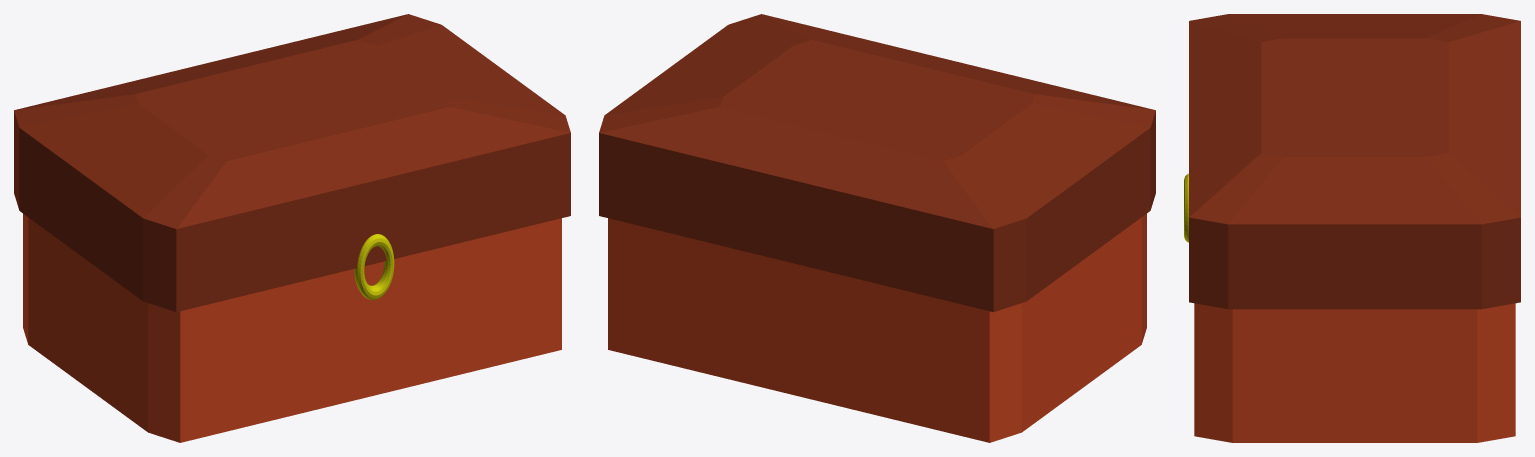
The model's file is treasure.fbx.
3 renders of one model, left to right at view 1: azimuth 30°, elevation 25°; view 2: azimuth 150°, elevation 25°; view 3: azimuth 270°, elevation 25°, orthographic. The views are drawn at different scales.
Visible parts, largest first — view 1: Cube; view 2: Cube; view 3: Cube.
Boxes of the visible parts, x1,y1,x2,y2 form: Cube: (14,14,570,442); Cube: (599,14,1155,442); Cube: (1184,14,1520,442).
Bounding box in the file's own units: 407 × 219 × 275.
